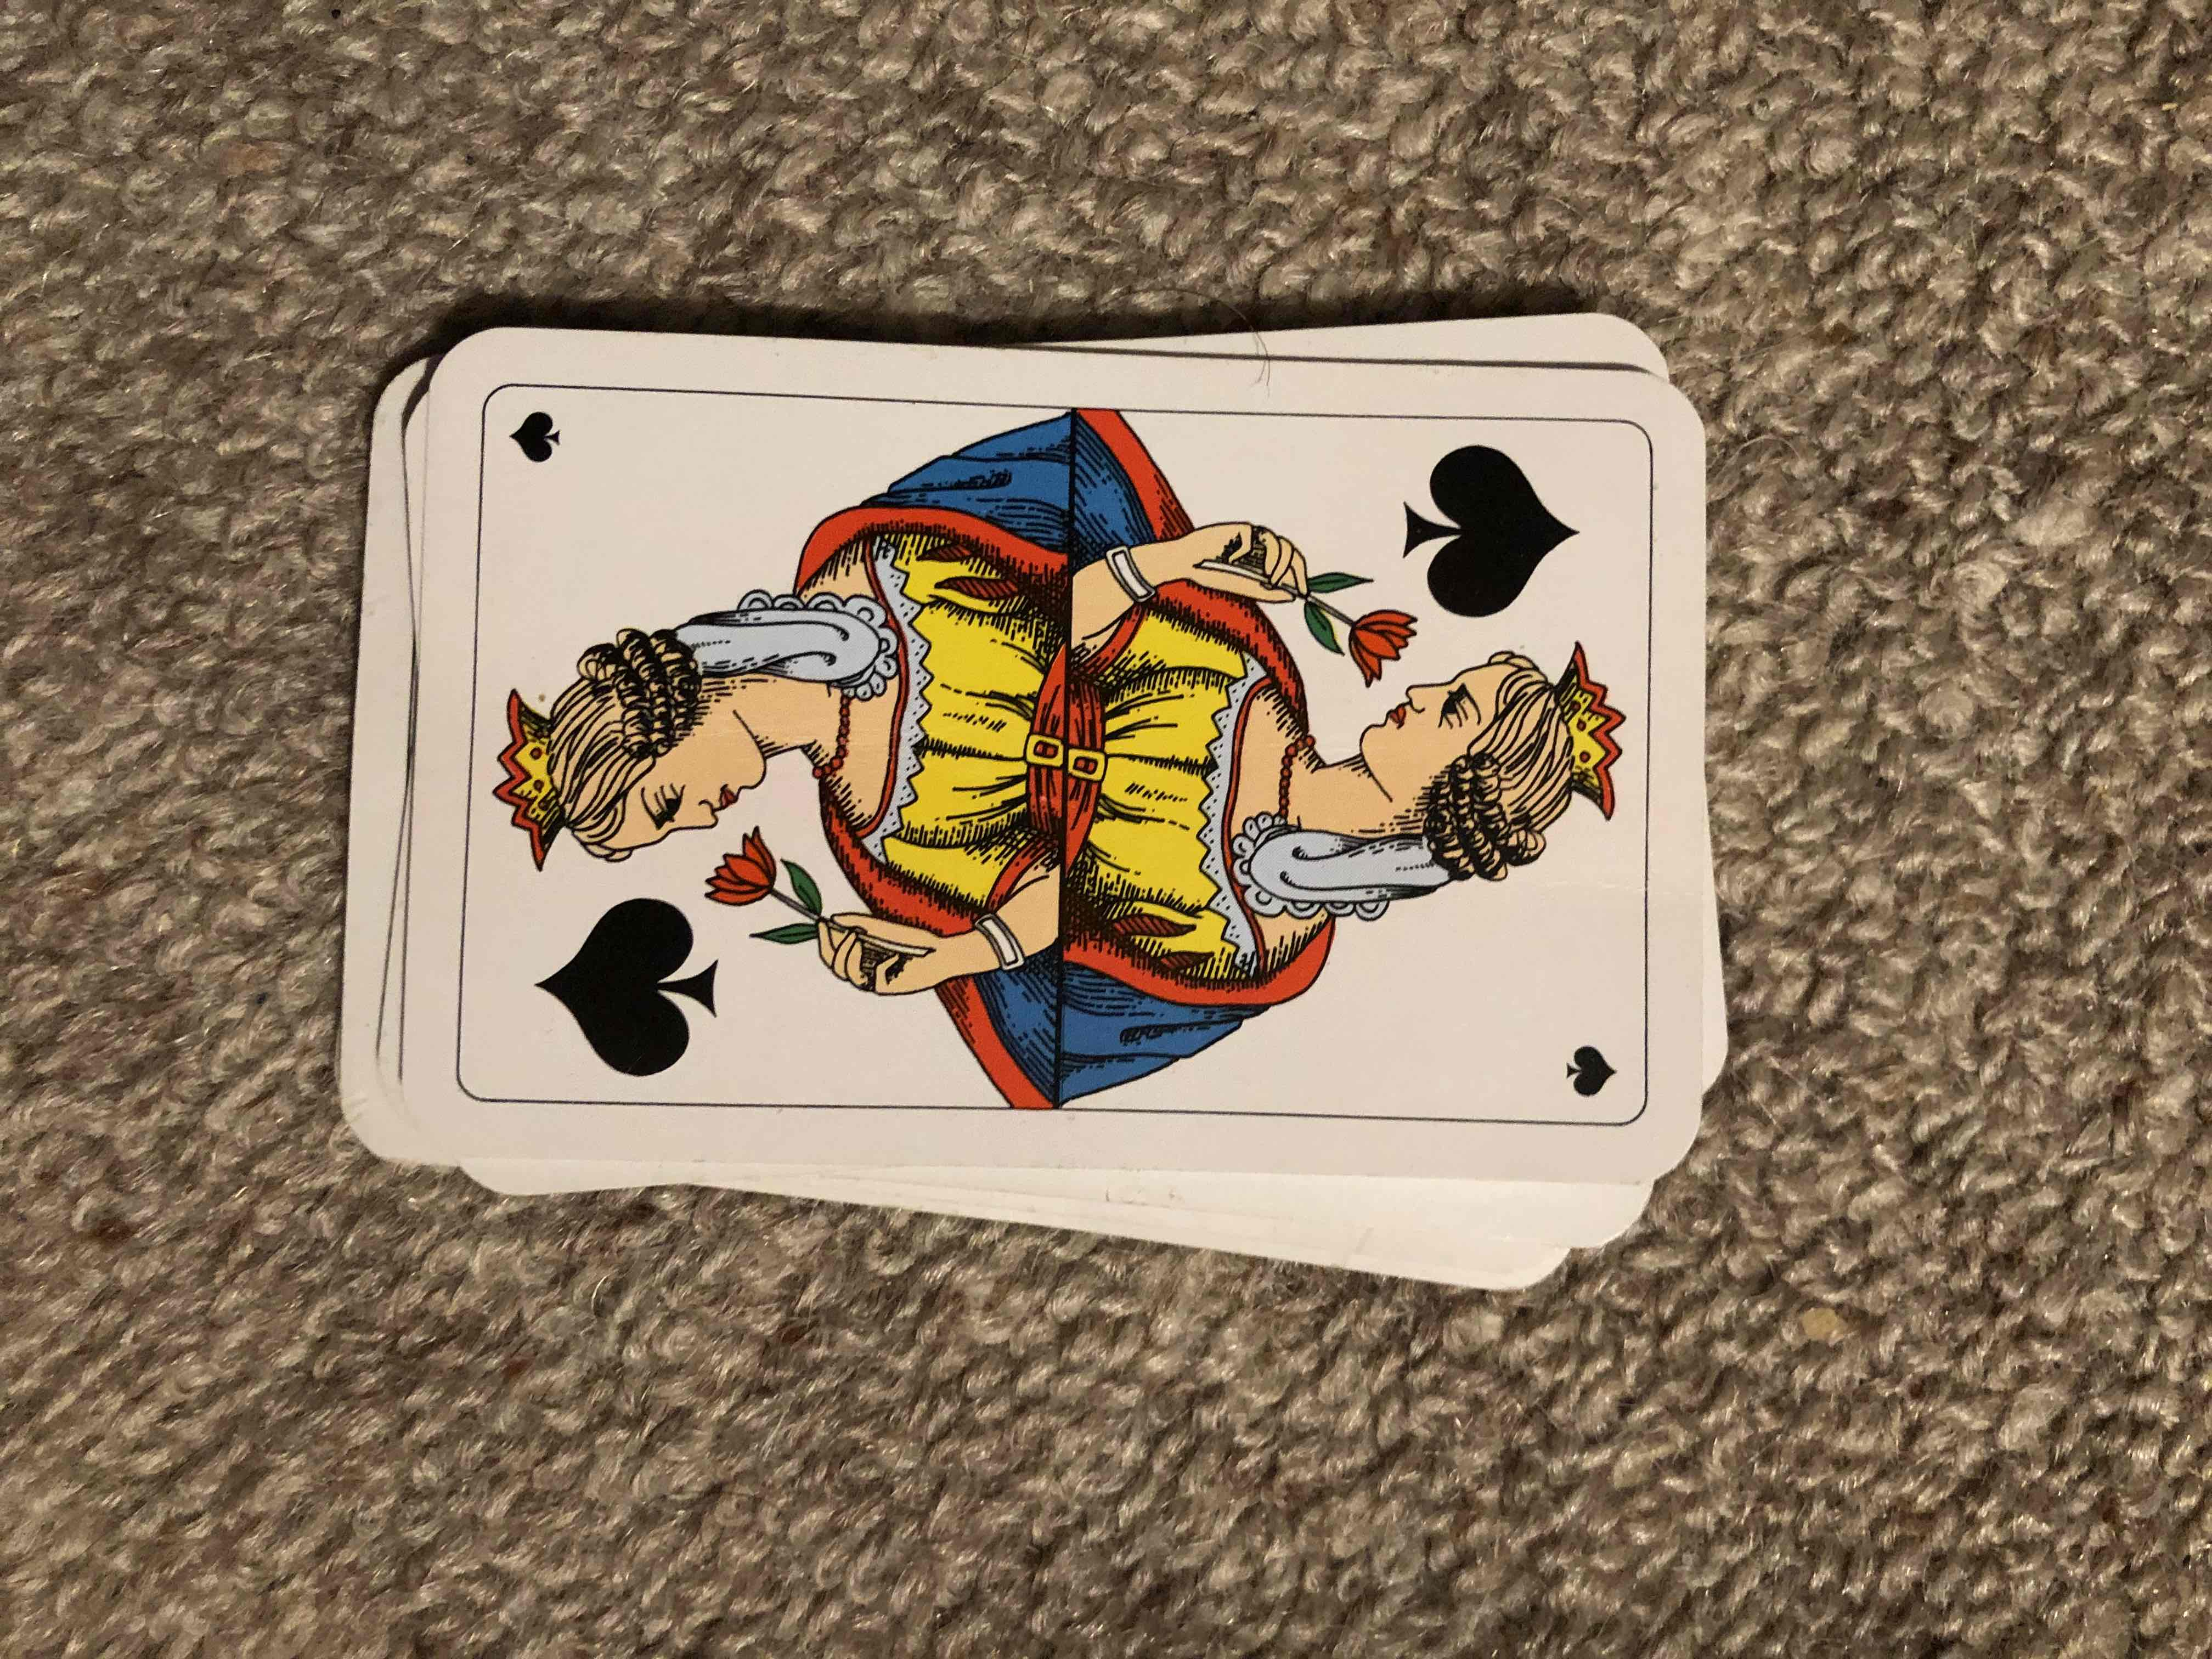spadesQueen: (453, 289, 1705, 1175)
